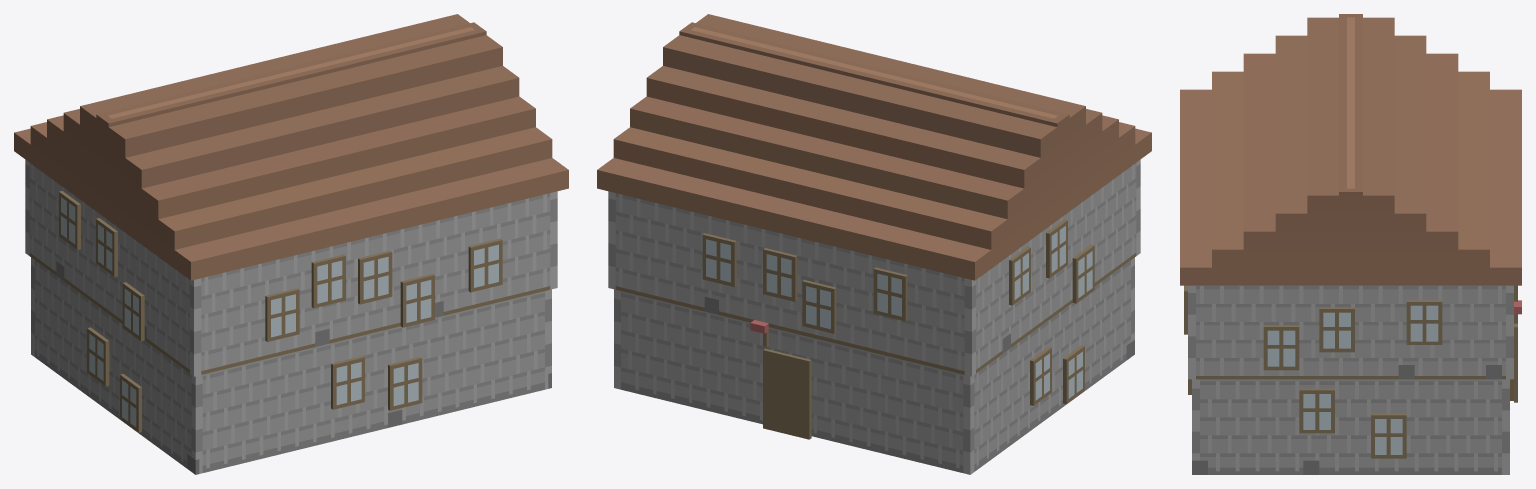
File: taberna_03.glb
3 views of the same model, side by side, from view 1: azimuth 30°, elevation 25°; view 2: azimuth 150°, elevation 25°; view 3: azimuth 270°, elevation 25° (orthographic). The views are drawn at different scales.
Visible parts, largest first — view 1: taberna_03; view 2: taberna_03; view 3: taberna_03.
Part boxes in pixels (x1,y1,x2,y2): taberna_03: [14, 14, 568, 474]; taberna_03: [597, 14, 1151, 474]; taberna_03: [1180, 14, 1521, 474].
Size of the model in its own units: 10.6 by 8 by 8.6.
